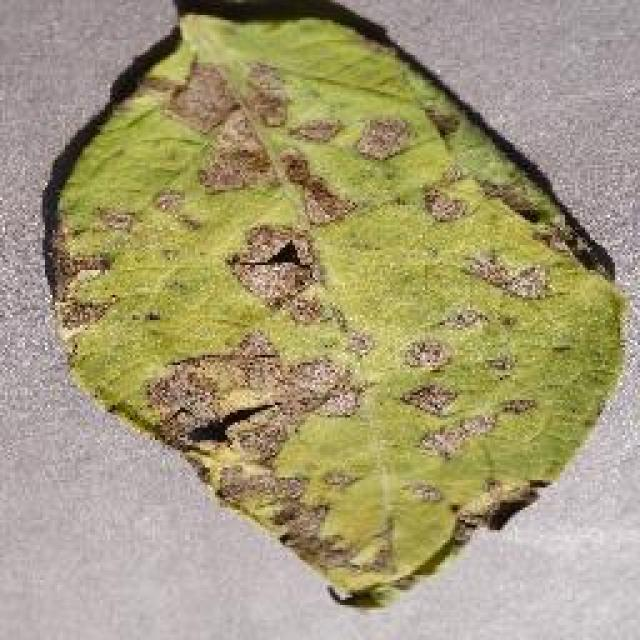Potato___Early_blight: (50, 10, 634, 617)
